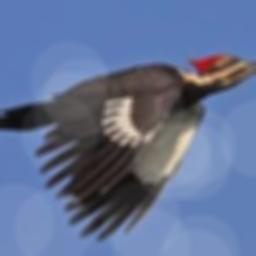Woodpecker: (0, 53, 256, 241)
